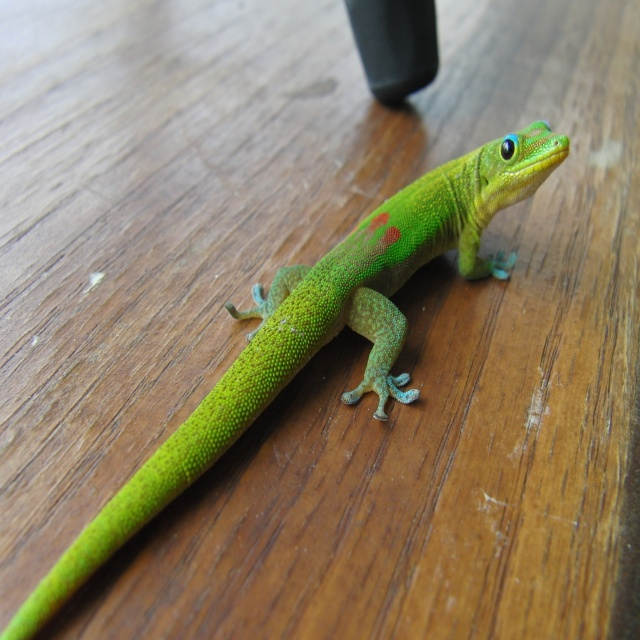Lizard: (32, 141, 570, 606)
